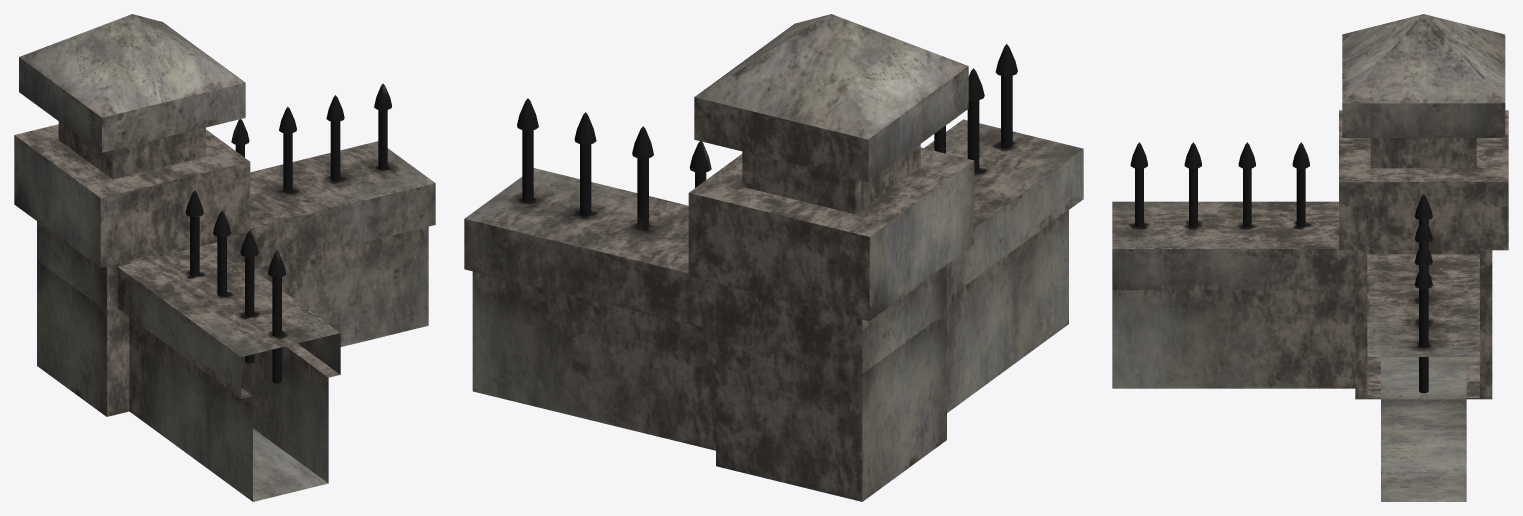
File: Wall1.fbx
3 views of the same model, side by side, from view 1: azimuth 30°, elevation 25°; view 2: azimuth 150°, elevation 25°; view 3: azimuth 270°, elevation 25° (orthographic). The views are drawn at different scales.
Parts seen in each view (by area): view 1: Box001; view 2: Box001; view 3: Box001.
Boxes of the visible parts, x1,y1,x2,y2 form: Box001: (14,14,435,501); Box001: (464,14,1083,501); Box001: (1112,14,1508,501).
Bounding box in the file's own units: 51.8 × 51.41 × 51.8.
